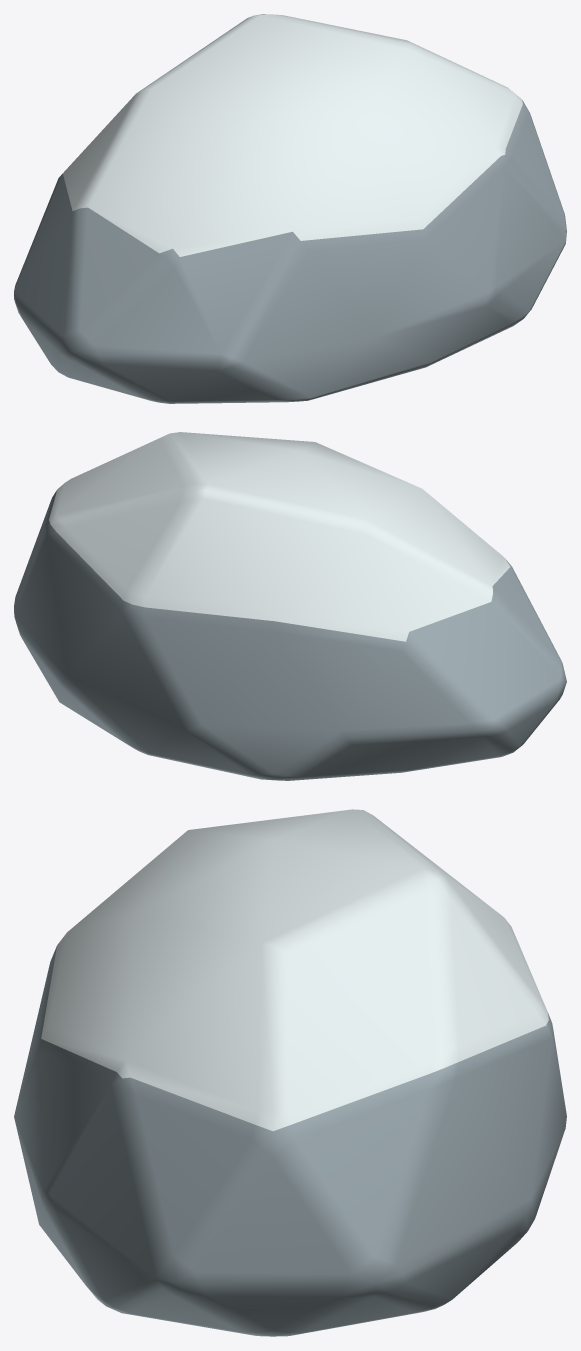
Rendered from snow_rock.glb.
3 renders of one model, top to bottom at view 1: azimuth 30°, elevation 25°; view 2: azimuth 150°, elevation 25°; view 3: azimuth 270°, elevation 25°, orthographic. The views are drawn at different scales.
Parts seen in each view (by area): view 1: Stone; view 2: Stone; view 3: Stone.
Part boxes in pixels (x1,y1,x2,y2): Stone: (14, 14, 566, 403); Stone: (14, 432, 566, 780); Stone: (14, 809, 566, 1336).
Bounding box in the file's own units: 4.07 × 2.02 × 2.89.
